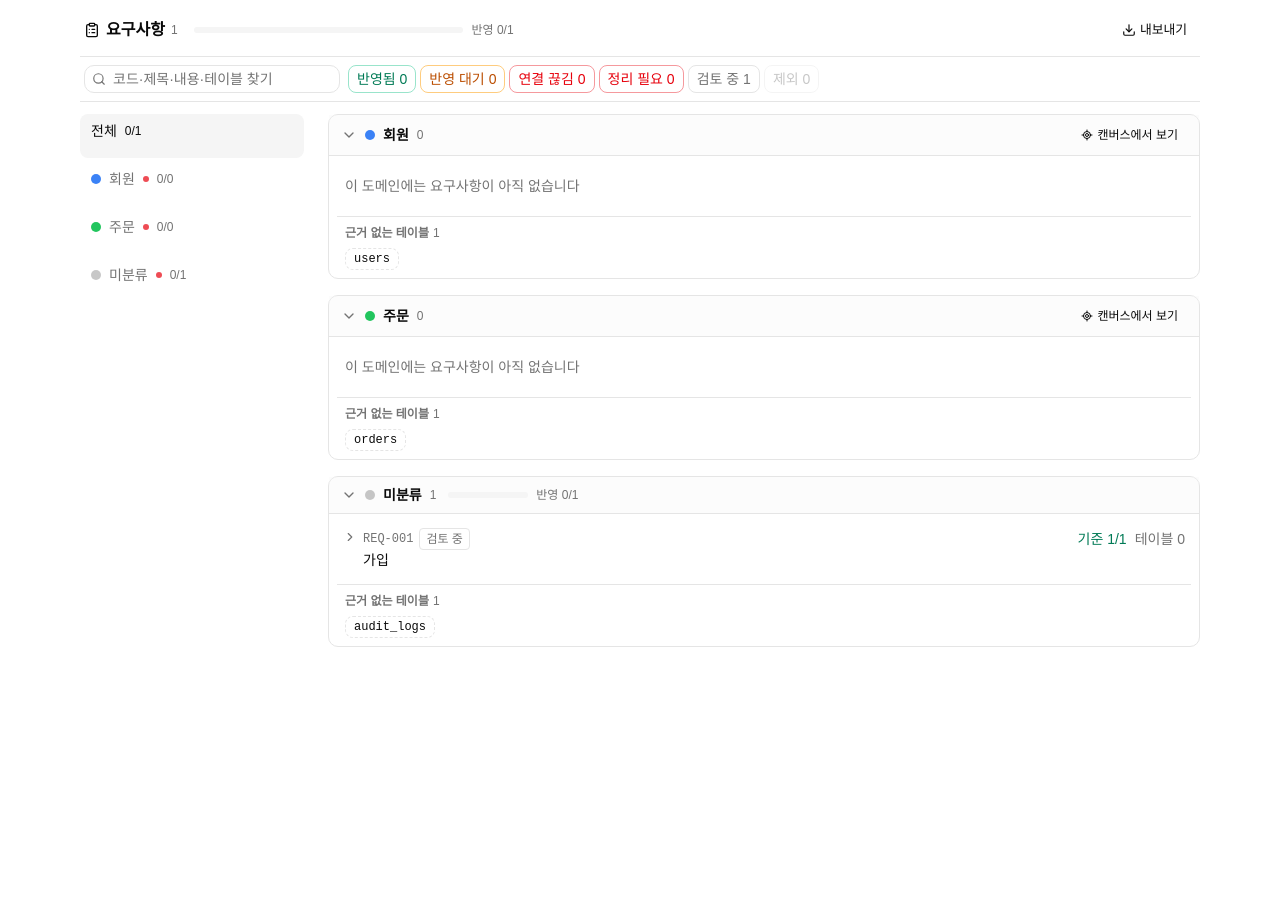
Test: RequirementsPanel › 수용 기준은 읽기 전용이면 체크할 수 없다
Click the text "가입" at (376, 560), box 363,552 -> 389,568
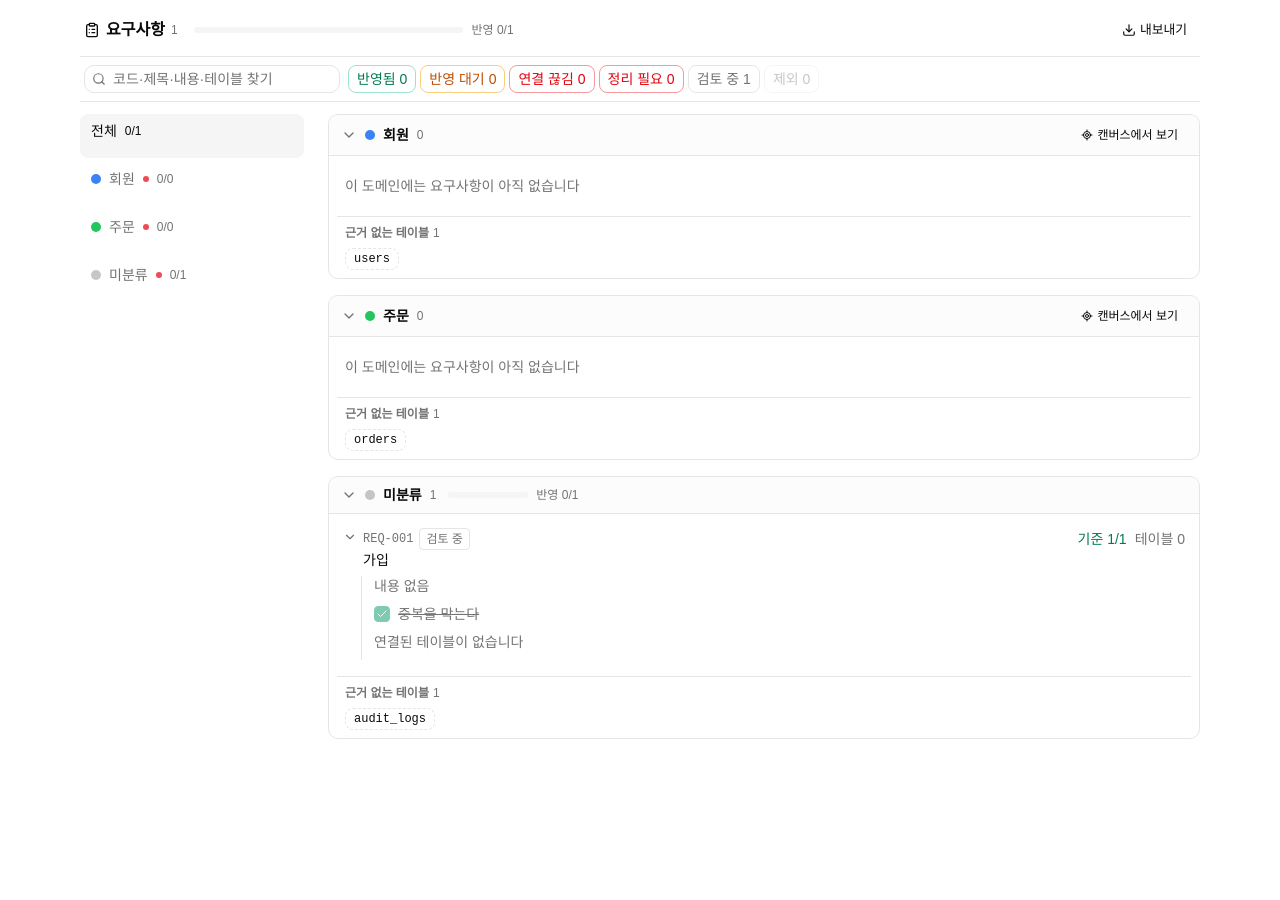
Expected: the checkbox is disabled, 374,606 -> 390,622
